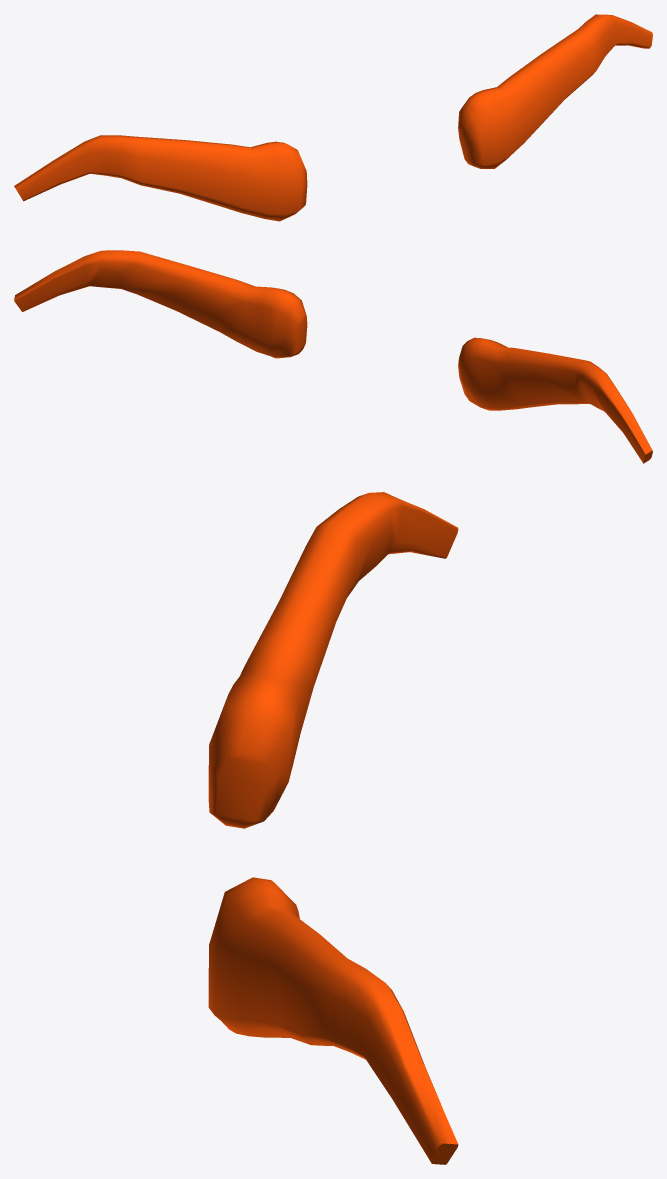
The model's file is Eyebrows_13_06.fbx.
3 renders of one model, top to bottom at view 1: azimuth 30°, elevation 25°; view 2: azimuth 150°, elevation 25°; view 3: azimuth 270°, elevation 25°, orthographic. The views are drawn at different scales.
Parts seen in each view (by area): view 1: Eyebrows_13_06; view 2: Eyebrows_13_06; view 3: Eyebrows_13_06.
Boxes of the visible parts, <box> form: Eyebrows_13_06: <box>14,14,652,221</box>; Eyebrows_13_06: <box>14,250,652,463</box>; Eyebrows_13_06: <box>208,492,458,1164</box>.
Size of the model in its own units: 19.7 by 2.81 by 3.35.
